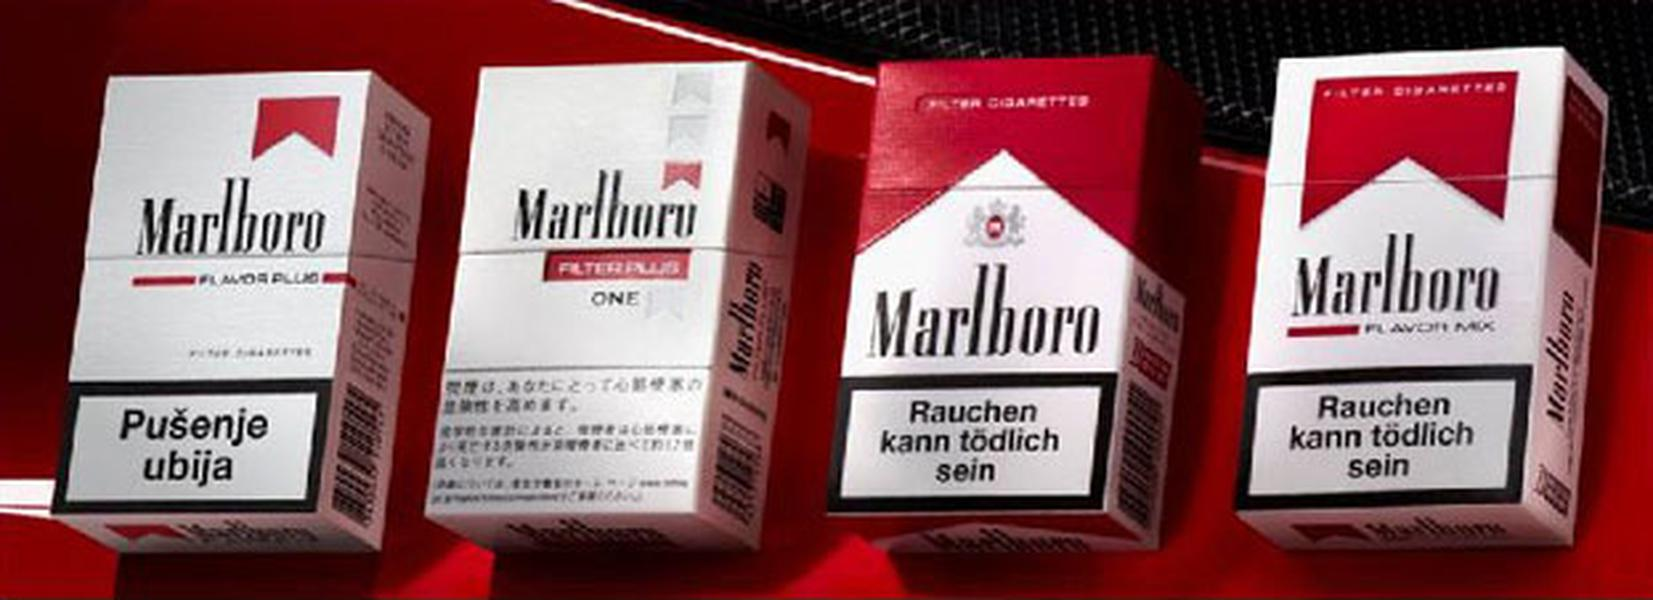marlboro_red: (1259, 49, 1548, 509), (866, 63, 1145, 506)
